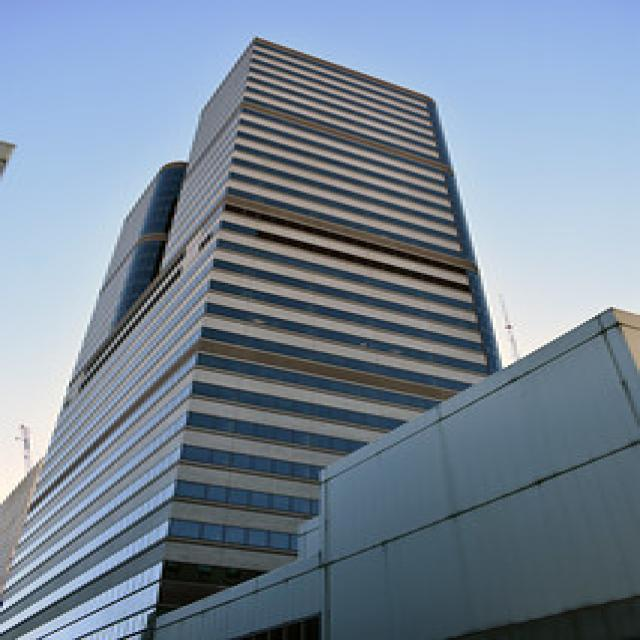Normal_building: (18, 33, 505, 639)
